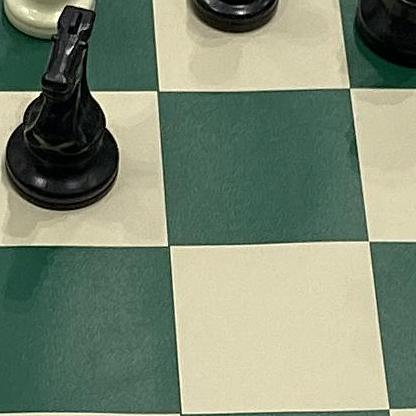black-knight: (0, 6, 139, 218)
black-pawn: (174, 0, 291, 42)
white-pawn: (0, 0, 104, 49)
